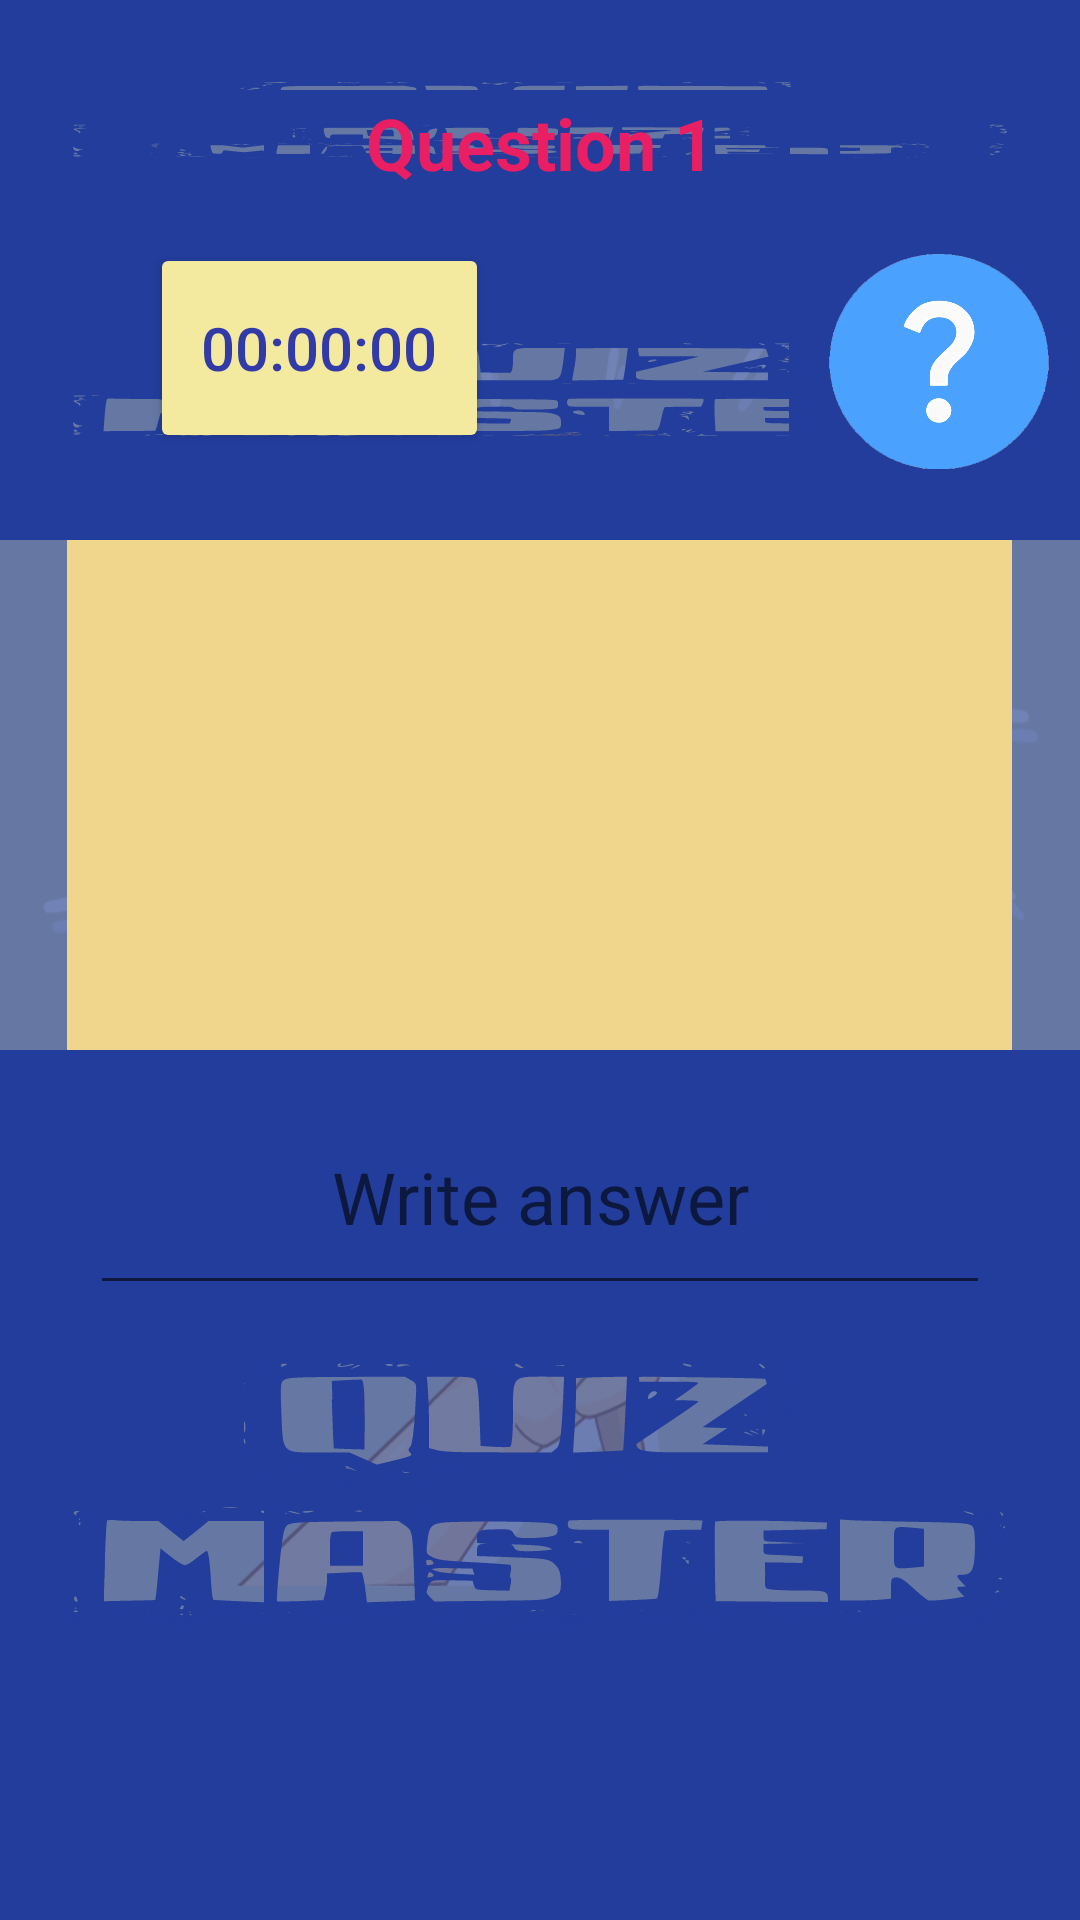

Screen size 1080 × 1920. Icon name, then its center in pixels as point (x, y):
questmark: point (939, 361)
